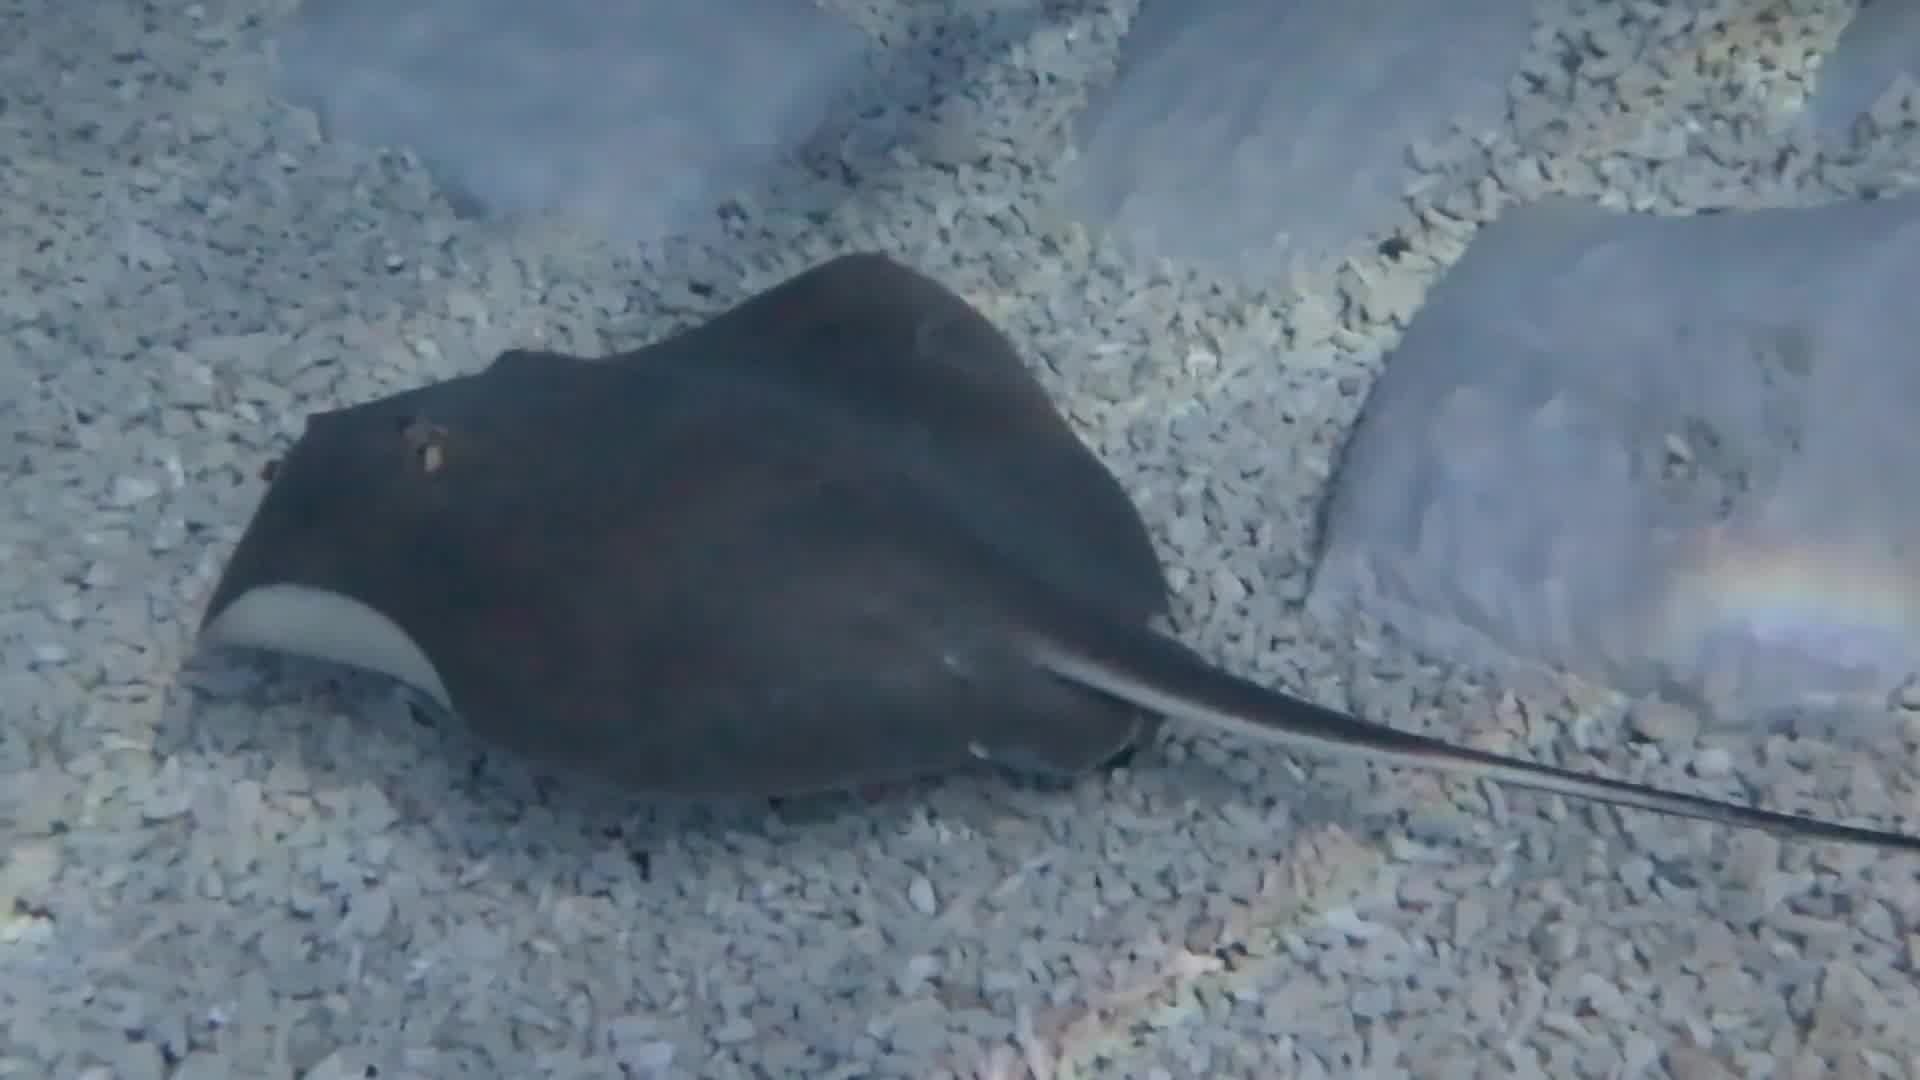Dasyatis bennetti: (171, 123, 1420, 964)
